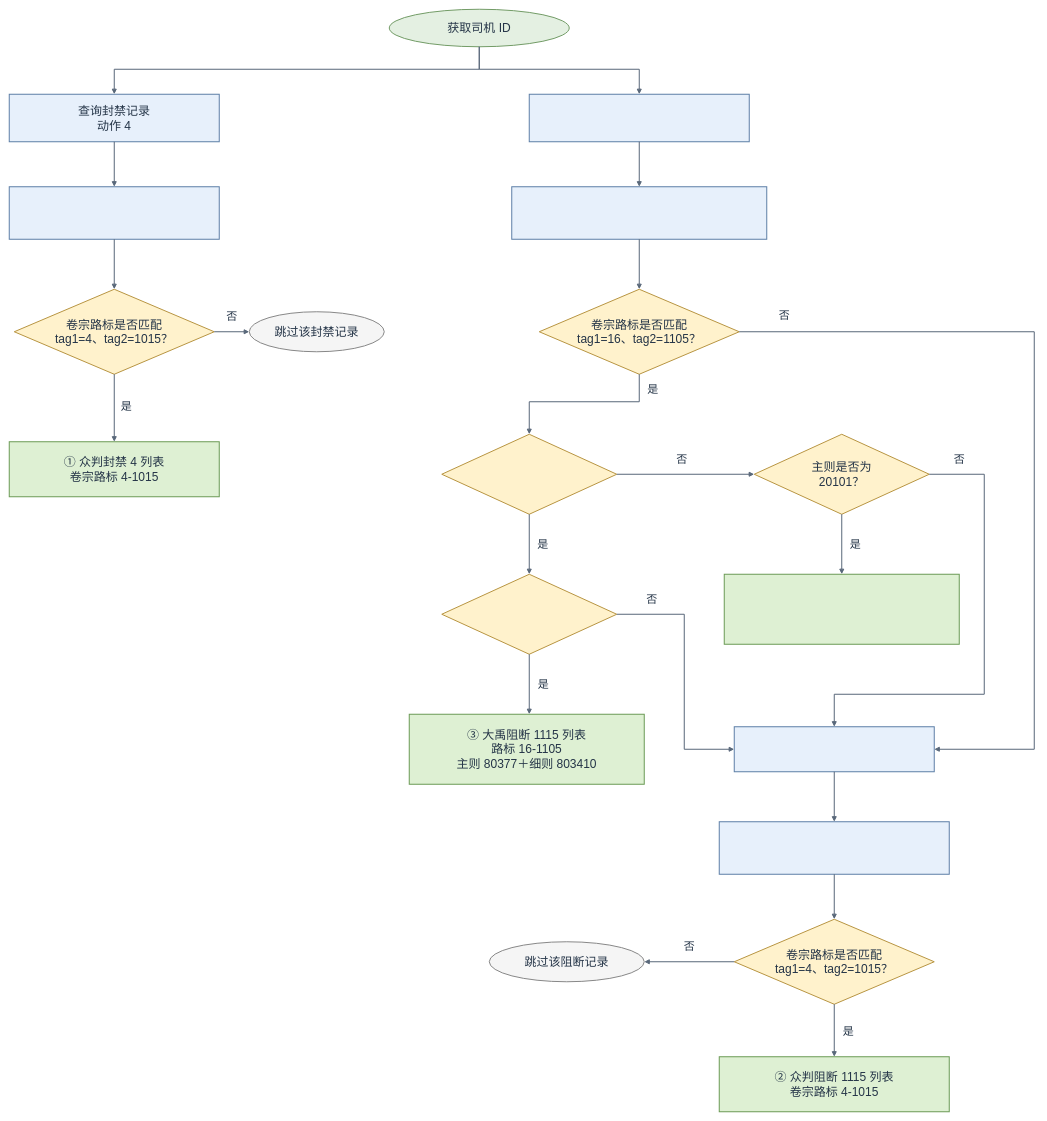
Some shapes in this 1047 by 1121 pixel diagram are drawn without their labels. The centre of each missing label's shape, as x and y in pixels:
④ 大禹阻断 1115 列表 路标 16-1105 主则 20101，细则不限: (x=842, y=609)
主则是否为 80377？: (x=529, y=474)
剩余 1115 记录: (x=834, y=749)
取得卷宗信息 本次已查询结果直接复用: (x=834, y=847)
按原 caseID 查询卷宗 保留对应原 token: (x=114, y=213)
按原 caseID 查询卷宗 核对原处置动作，保留原 token: (x=639, y=213)
查询阻断记录 动作 1115: (x=639, y=118)
细则是否为 803410？: (x=529, y=614)
